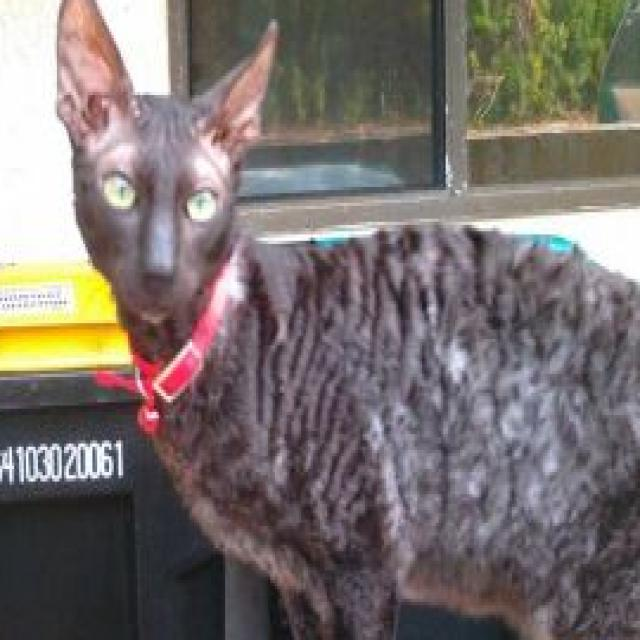Cornish Rex: (47, 0, 640, 640)
